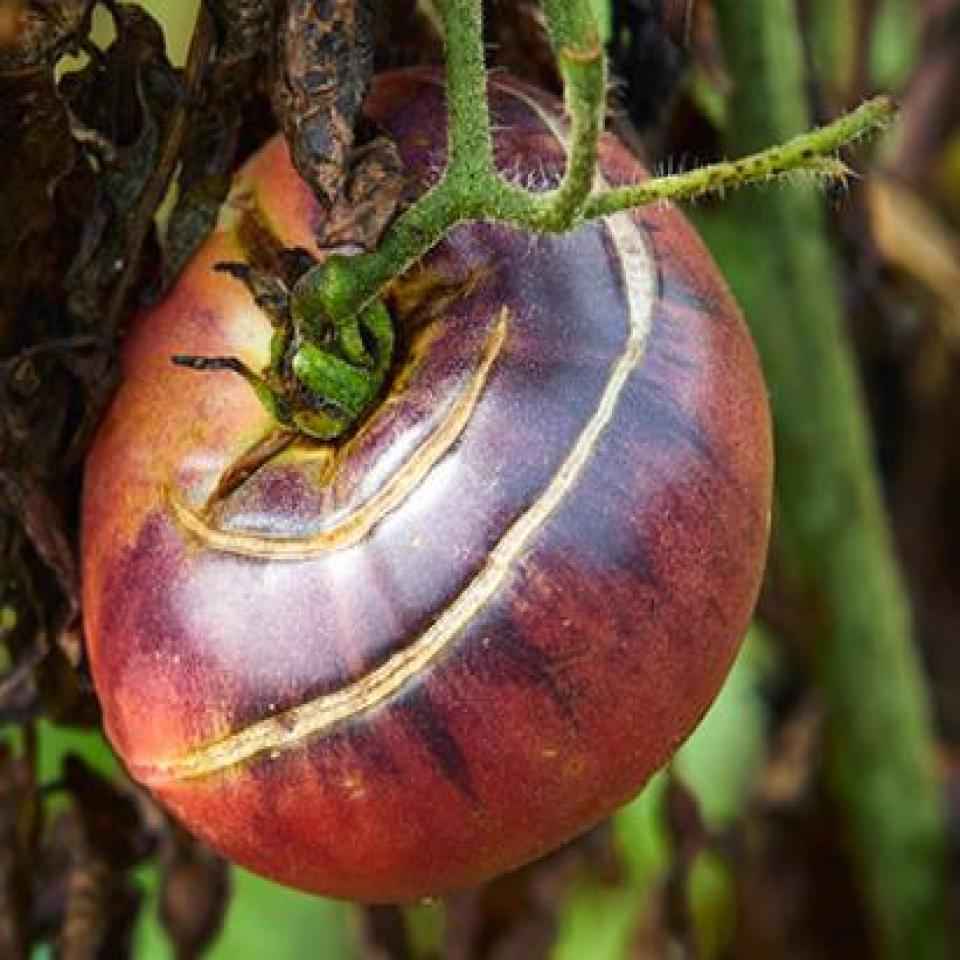Cracking: (93, 55, 661, 804), (152, 302, 528, 573)
